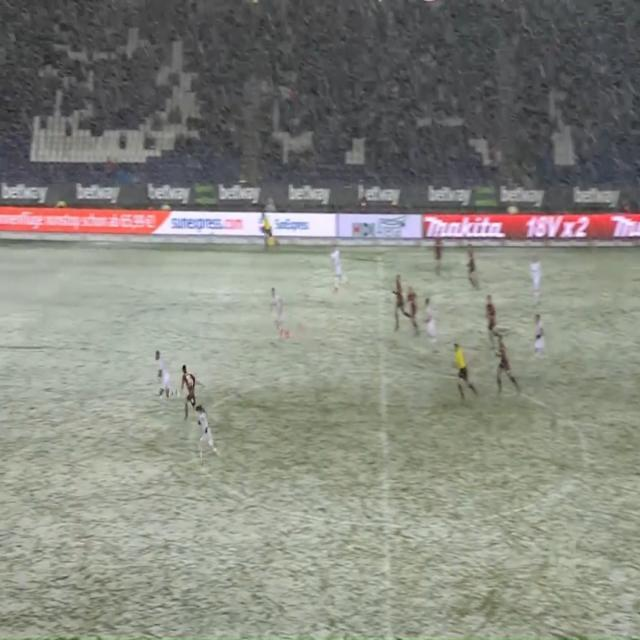player: (490, 332, 522, 410), (192, 400, 219, 478), (147, 339, 174, 416), (383, 262, 410, 338), (325, 232, 353, 300), (529, 309, 555, 376), (177, 348, 198, 430), (266, 277, 288, 348), (400, 269, 420, 344), (421, 288, 441, 357), (461, 240, 484, 297), (480, 292, 502, 348), (428, 228, 448, 283), (526, 257, 548, 306)
referee: (449, 332, 478, 413), (256, 211, 282, 260)
